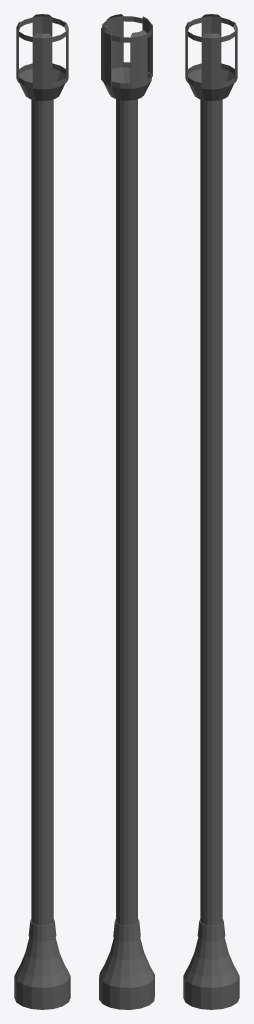
Rendered from GroundTorch.fbx.
3 renders of one model, left to right at view 1: azimuth 90°, elevation 25°; view 2: azimuth 210°, elevation 25°; view 3: azimuth 270°, elevation 25°, orthographic.
Visible parts, largest first — view 1: GroundMountedTorch; view 2: GroundMountedTorch; view 3: GroundMountedTorch.
Boxes of the visible parts, <box> form: GroundMountedTorch: <box>14,14,70,1009</box>; GroundMountedTorch: <box>99,14,154,1009</box>; GroundMountedTorch: <box>183,14,239,1009</box>.
Bounding box in the file's own units: 0.1108 × 2.12 × 0.1108.
